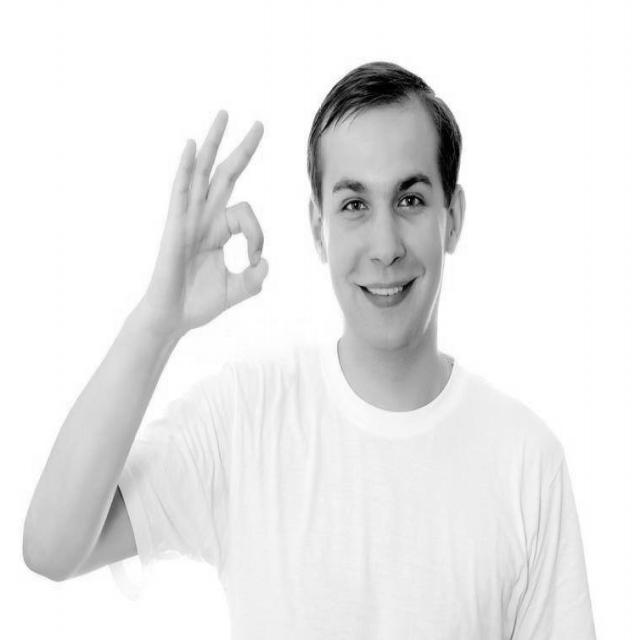perfect: (135, 101, 275, 352)
